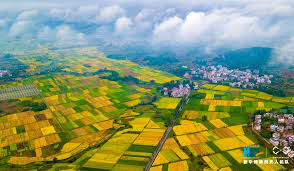field: (2, 62, 294, 168)
mountain: (148, 43, 294, 86)
sky: (2, 3, 292, 51)
